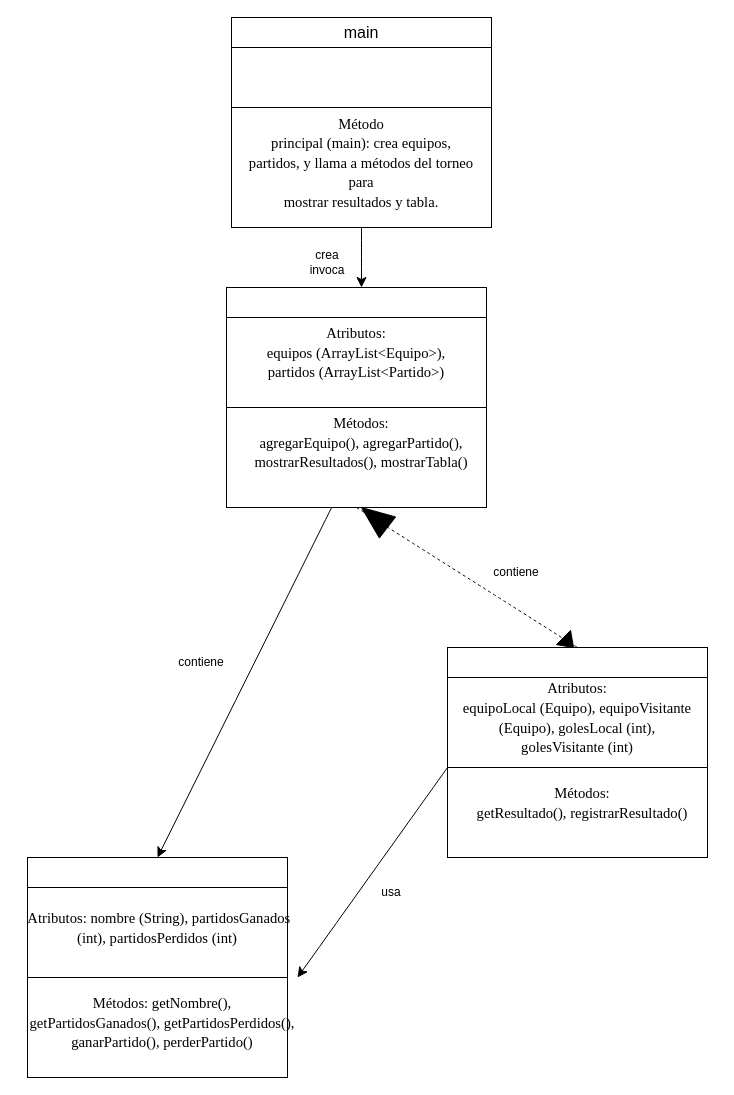
The diagram is 734 pixels wide and 1095 high, and some of its shapes have lost their labels. The shapes that lost their labels are listed below. From the top down, each one's box as (x1, y1, x2, y2) in pixels, then its label:
(226, 286, 486, 318): Torneo
(446, 646, 708, 678): Partidos
(26, 856, 288, 888): Equipo
